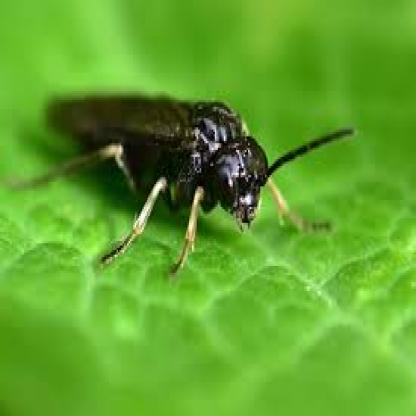sawfly: (8, 85, 360, 274)
